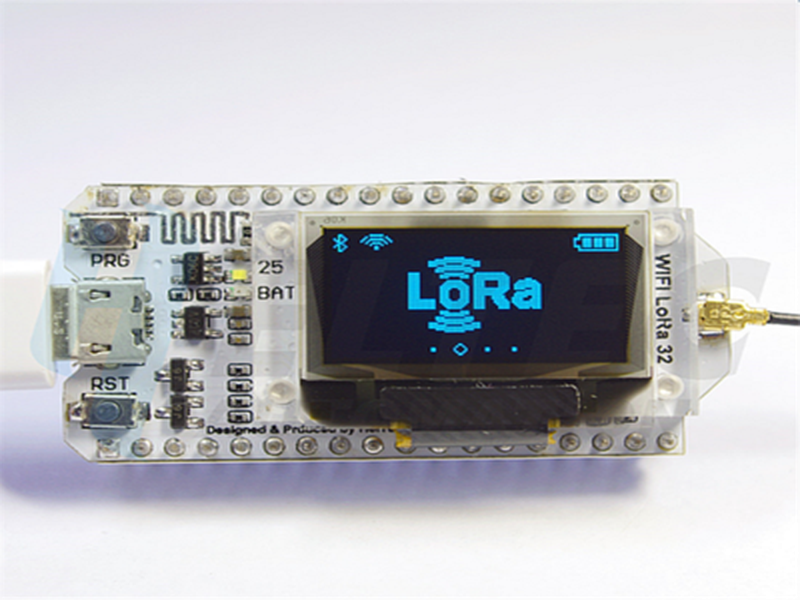Heltec_ESP32_Lora: (50, 177, 695, 461)
